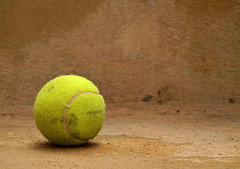tennis ball: (32, 73, 106, 148)
